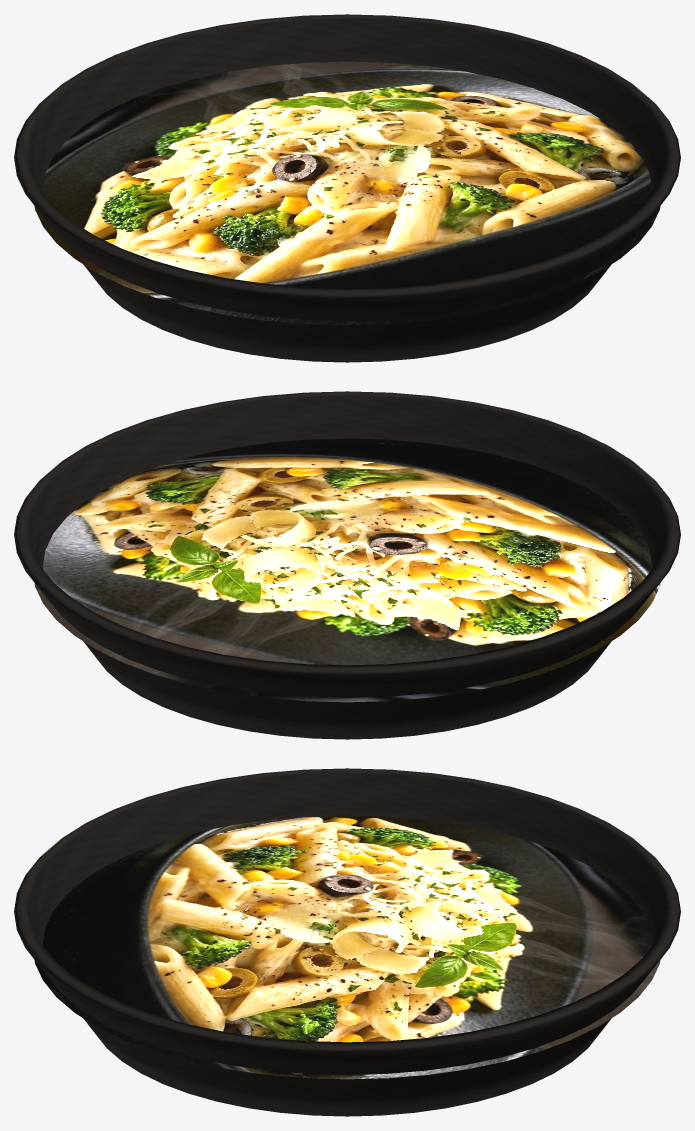
File: pasta-white-sauce.glb
The picture shows the model from 3 angles, top to bottom: view 1: azimuth 30°, elevation 25°; view 2: azimuth 150°, elevation 25°; view 3: azimuth 270°, elevation 25°; orthographic projection.
Parts seen in each view (by area): view 1: FoodMound, StonewareVessel; view 2: FoodMound, StonewareVessel; view 3: FoodMound, StonewareVessel.
Part boxes in pixels (<box>): FoodMound: <box>34,61,660,325</box>; StonewareVessel: <box>14,14,680,362</box>; FoodMound: <box>34,438,660,702</box>; StonewareVessel: <box>14,391,680,739</box>; FoodMound: <box>34,815,660,1079</box>; StonewareVessel: <box>14,768,680,1116</box>.
Bounding box in the file's own units: 0.22 × 0.0365 × 0.22.
Materials: 2 (2 with a texture image).
